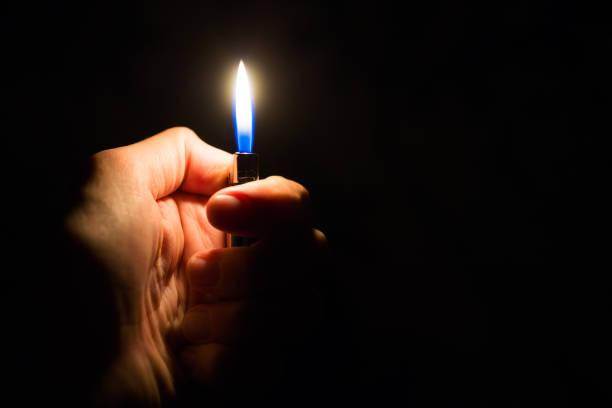Fire: (228, 54, 261, 153)
